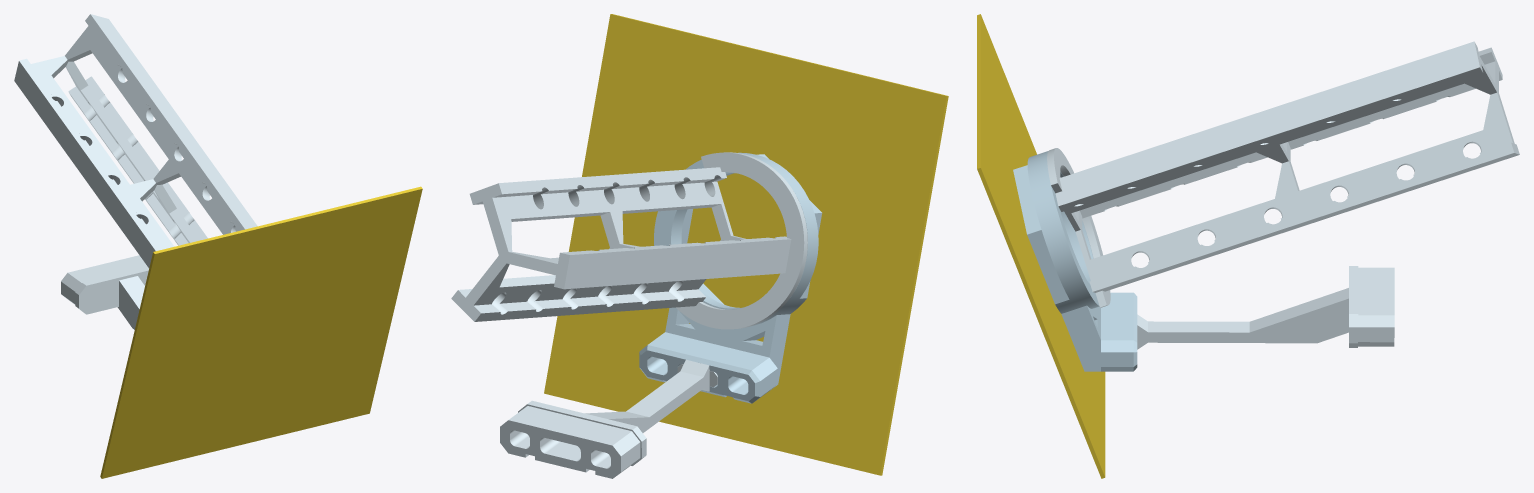
The model's file is Assembly 1.gltf.
The picture shows the model from 3 angles, left to right: view 1: azimuth 30°, elevation 25°; view 2: azimuth 150°, elevation 25°; view 3: azimuth 270°, elevation 25°; orthographic projection. The views are drawn at different scales.
Visible parts, largest first — view 1: Part 1 (×3); view 2: Part 1 (×4); view 3: Part 1 (×4).
Boxes of the visible parts, <box> form: Part 1 (×3): <box>14,14,422,478</box>; Part 1 (×4): <box>451,14,948,478</box>; Part 1 (×4): <box>977,14,1519,478</box>.
Size of the model in its own units: 0.2 by 0.2232 by 0.2984.
